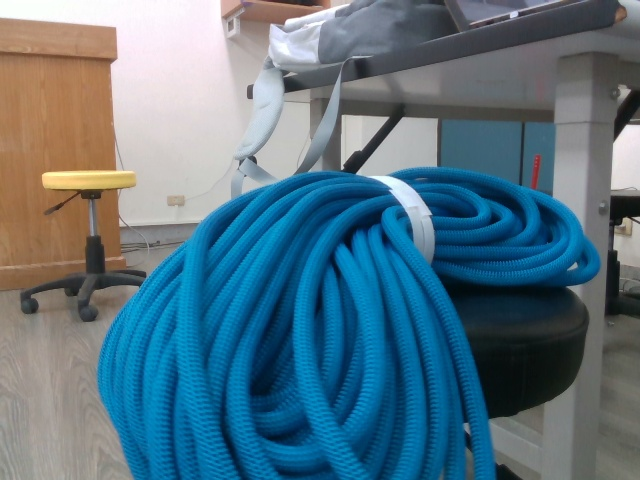rope: (96, 166, 605, 480)
